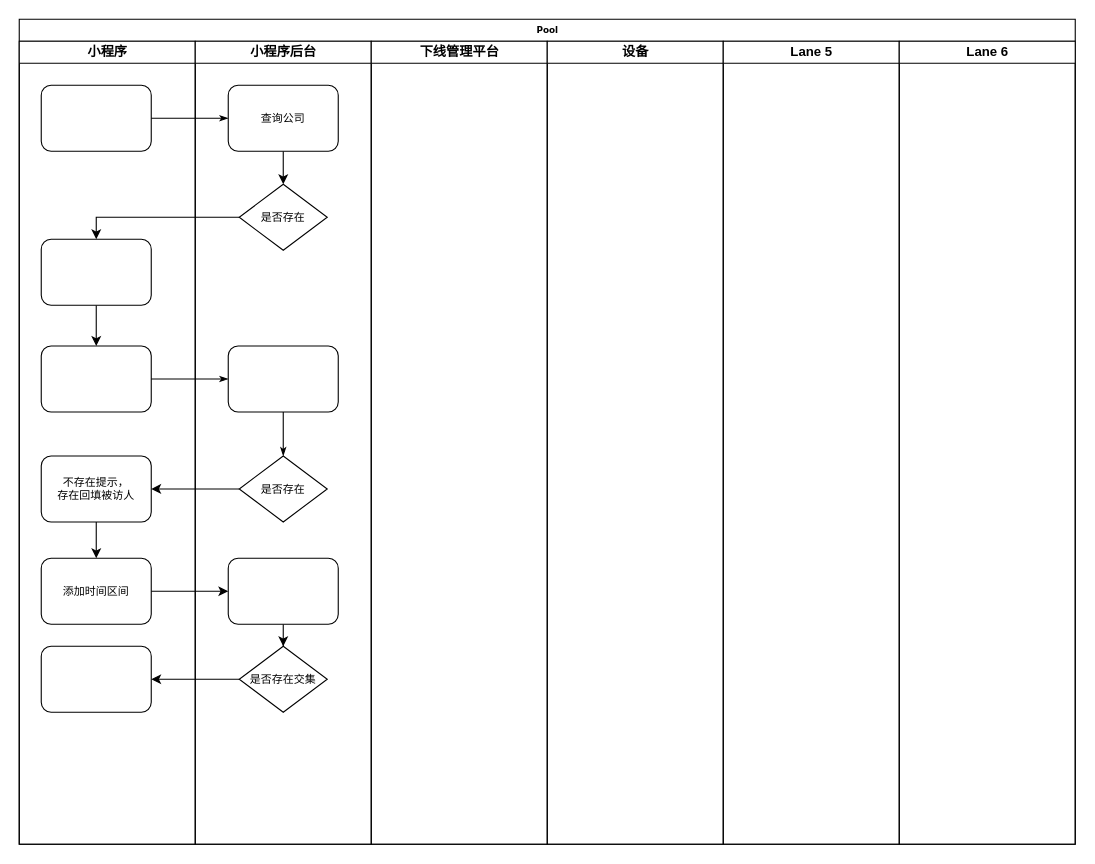
Some shapes in this 1095 by 864 pixel diagram are drawn without their labels. Each missing label, with the box of its shape:
不存在提示， 存在则选择公司: (40, 238, 151, 305)
填写被访人: (40, 345, 151, 412)
存在交集提示， 不存在则继续: (40, 645, 151, 712)
查询公司员工: (227, 345, 338, 412)
筛查时间记录: (227, 557, 338, 624)
预约登记: (40, 84, 151, 151)
